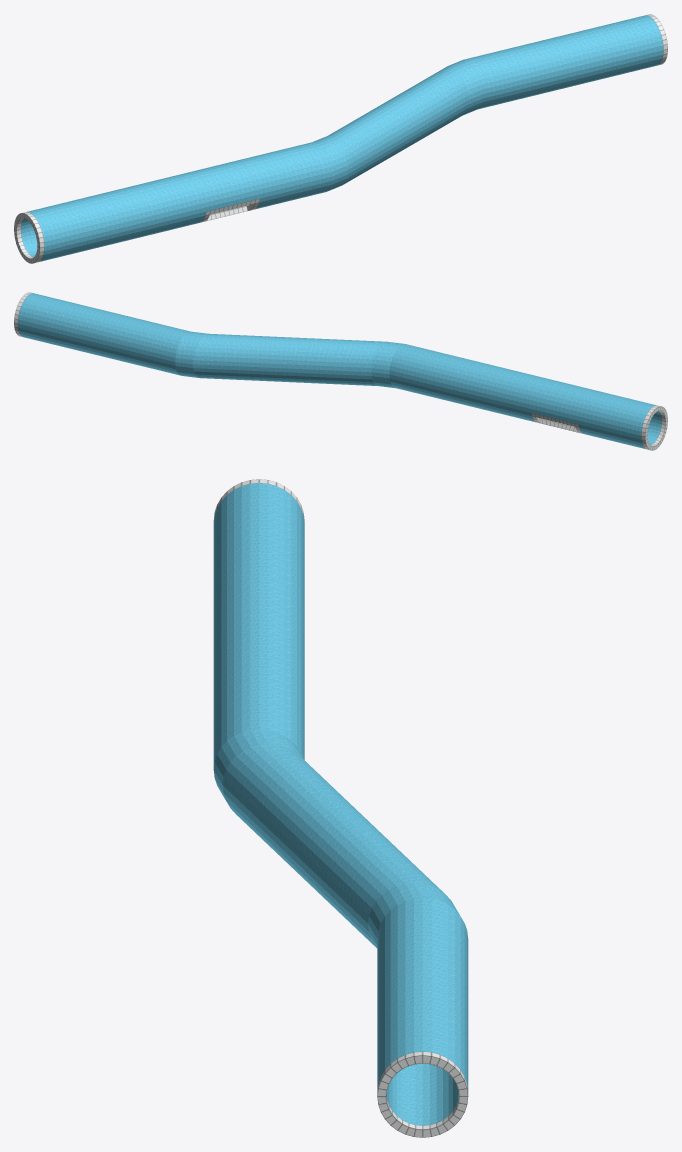
The model's file is ThinIcePipe1.obj.
3 views of the same model, one above another, from view 1: azimuth 30°, elevation 25°; view 2: azimuth 150°, elevation 25°; view 3: azimuth 270°, elevation 25° (orthographic). The views are drawn at different scales.
Parts seen in each view (by area): view 1: ThinIcePipe1; view 2: ThinIcePipe1; view 3: ThinIcePipe1.
Part boxes in pixels (<box>): ThinIcePipe1: <box>14,14,667,263</box>; ThinIcePipe1: <box>14,292,667,450</box>; ThinIcePipe1: <box>213,479,468,1137</box>.
Bounding box in the file's own units: 75 × 5 × 14.
